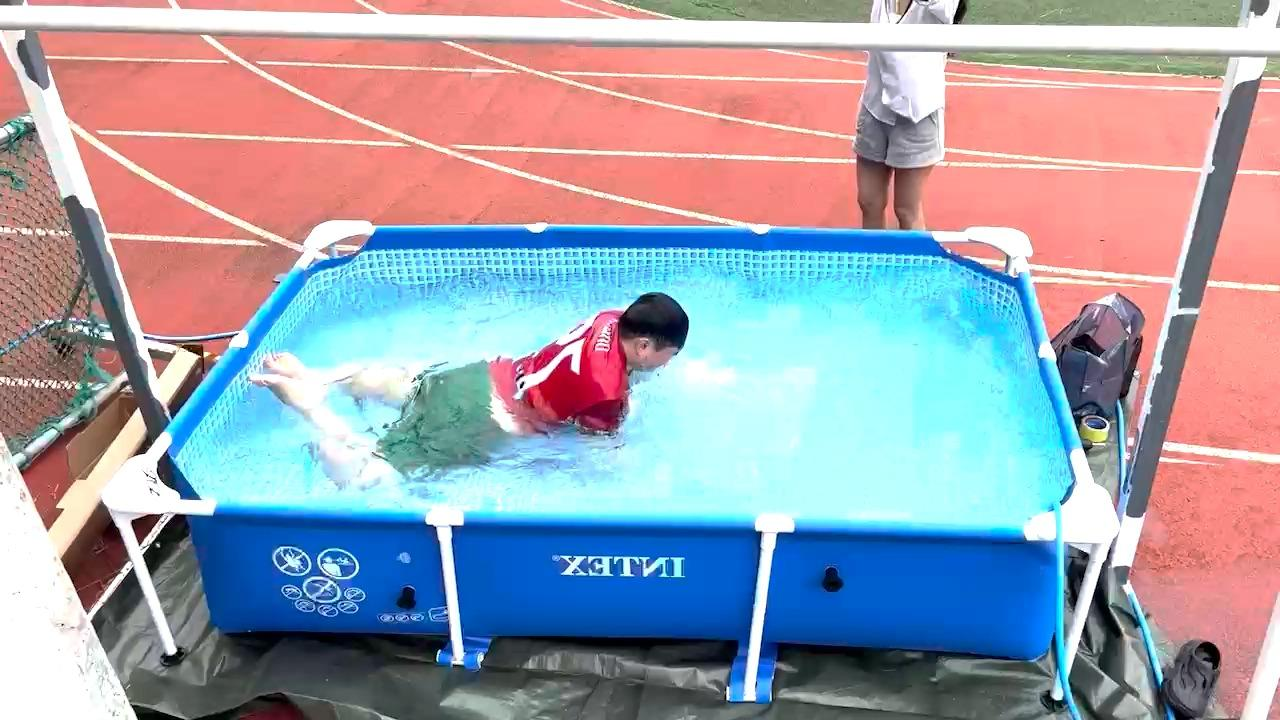Drowning: (234, 269, 777, 497)
Person-out-of-water: (823, 0, 956, 256)
